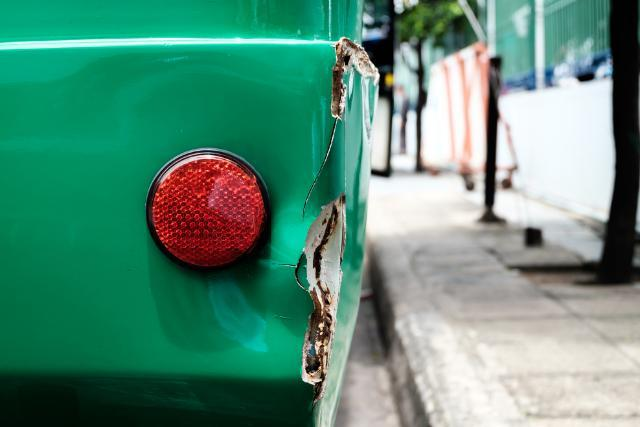Bumper: (222, 29, 402, 416)
